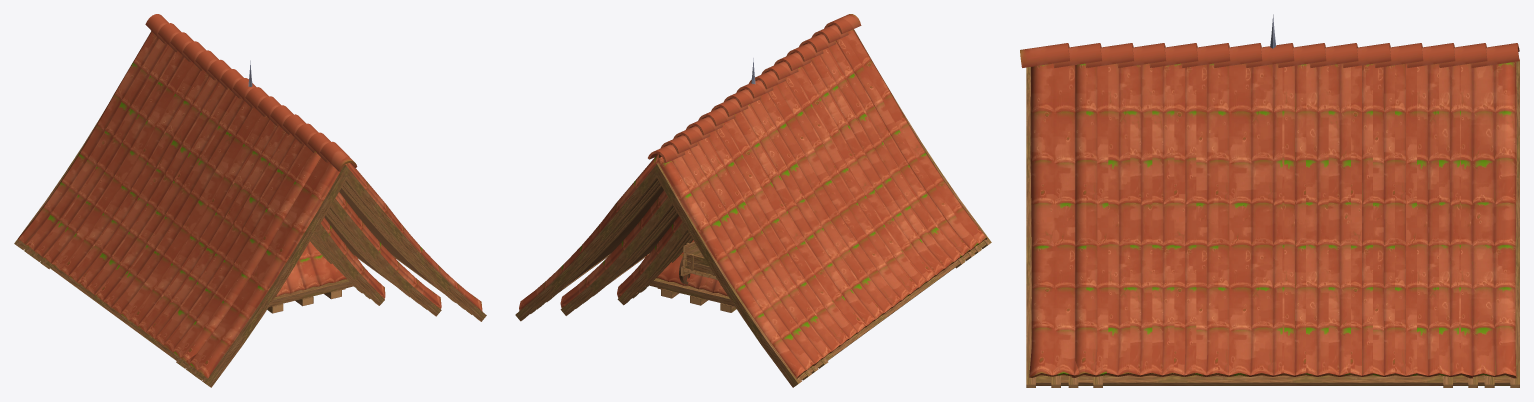
The model's file is village.glb.
The picture shows the model from 3 angles, left to right: view 1: azimuth 30°, elevation 25°; view 2: azimuth 150°, elevation 25°; view 3: azimuth 270°, elevation 25°; orthographic projection. The views are drawn at different scales.
Parts seen in each view (by area): view 1: Roof_RoundTiles_8x10, Roof_RoundTiles_8x8, Roof_RoundTiles_6x8, Roof_Tower_RoundTiles, Roof_RoundTiles_4x6, Roof_RoundTiles_6x6; view 2: Roof_RoundTiles_8x10, Roof_RoundTiles_8x8, Roof_RoundTiles_6x8, Roof_Tower_RoundTiles, Roof_RoundTiles_4x6, Prop_Wagon, Roof_RoundTiles_6x6; view 3: Roof_RoundTiles_8x10, Roof_RoundTiles_8x8.
Boxes of the visible parts, x1,y1,x2,y2 form: Roof_RoundTiles_8x10: (14,14,486,387); Roof_RoundTiles_8x8: (30,23,464,373); Roof_RoundTiles_6x8: (327,192,441,316); Roof_Tower_RoundTiles: (248,60,361,313); Roof_RoundTiles_4x6: (313,217,385,305); Roof_RoundTiles_6x6: (324,210,418,303); Roof_RoundTiles_8x10: (515,14,991,387); Roof_RoundTiles_8x8: (537,26,974,373); Roof_RoundTiles_6x8: (560,190,674,315); Roof_Tower_RoundTiles: (641,58,755,312); Roof_RoundTiles_4x6: (617,216,689,305); Prop_Wagon: (679,241,721,285); Roof_RoundTiles_6x6: (583,209,678,303); Roof_RoundTiles_8x10: (1020,43,1519,387); Roof_RoundTiles_8x8: (1053,43,1486,387).
Bounding box in the file's own units: 9.95 × 8.91 × 11.86.
9 materials, 8 textured.
